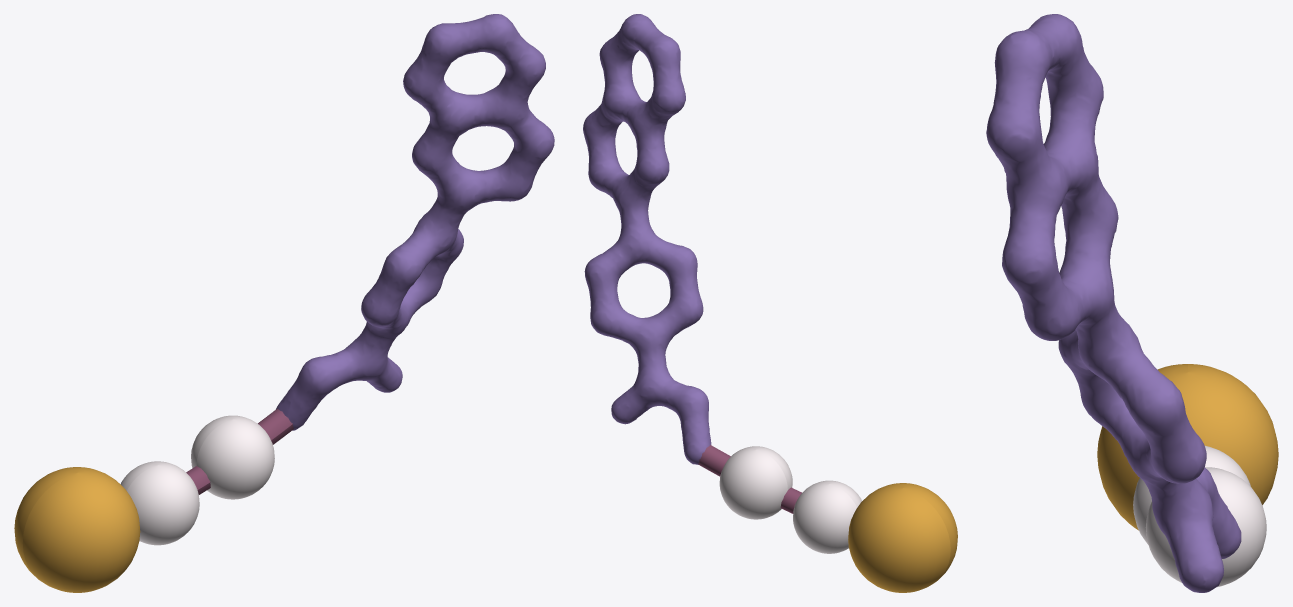
Rendered from halfB.glb.
The picture shows the model from 3 angles, left to right: view 1: azimuth 30°, elevation 25°; view 2: azimuth 150°, elevation 25°; view 3: azimuth 270°, elevation 25°; orthographic projection. The views are drawn at different scales.
Size of the model in its own units: 14.33 by 15.17 by 5.32.
